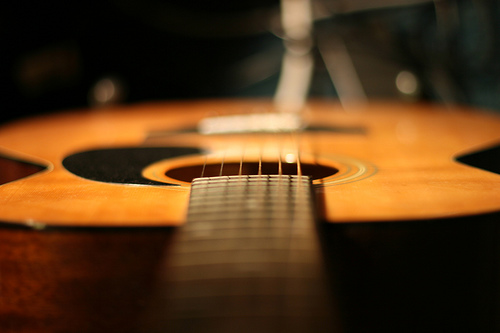guitar: (1, 97, 500, 333)
